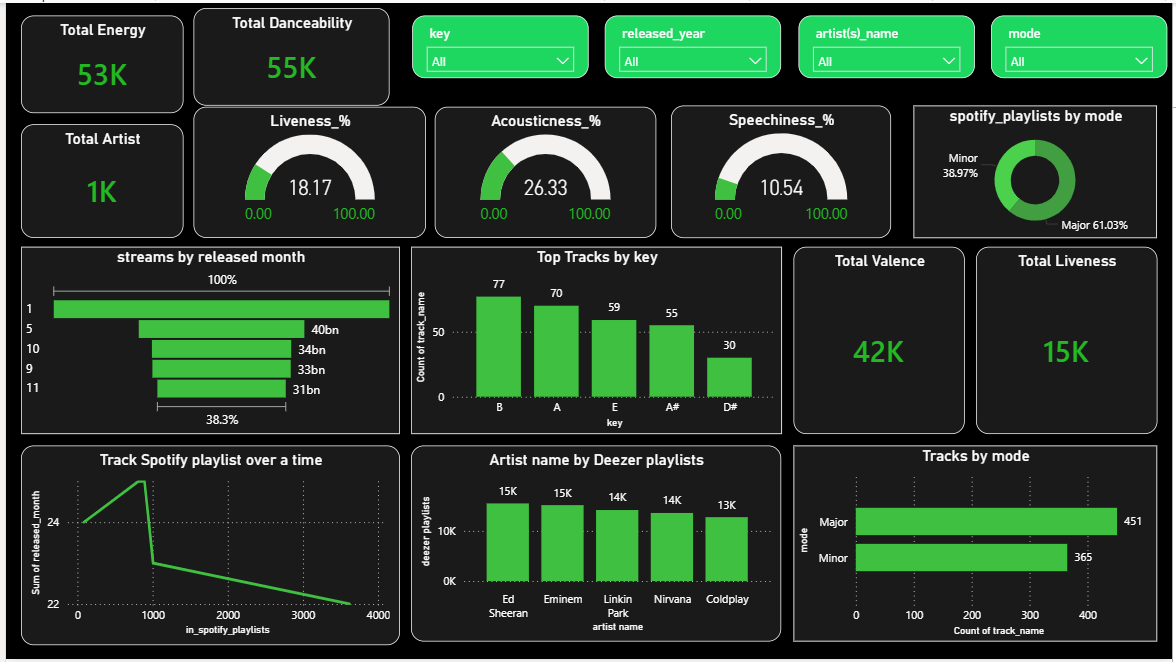

The dashboard page shown, as its layout file describes it:
{"tool":"powerbi","page":{"name":"Spotify Track","canvas":[1280,720],"ordinal":1},"visuals":[{"type":"slicer","fields":{"Values":["spotifyclean.key"]},"box":[446,13.7,193.5,68.6],"z":0},{"type":"slicer","fields":{"Values":["spotifyclean.released_year"]},"box":[657.7,13.7,193.5,68.6],"z":1000},{"type":"slicer","fields":{"Values":["spotifyclean.artist(s)_name"]},"box":[869.5,13.7,193.5,68.6],"z":2000},{"type":"slicer","fields":{"Values":["spotifyclean.mode"]},"box":[1081.3,13.7,193.5,68.6],"z":3000},{"type":"cardVisual","title":"Total Artist","fields":{"Data":["Sum(spotifyclean.artist_count)"]},"box":[16.5,133.1,178.4,124.9],"z":4000},{"type":"gauge","title":"Liveness_%","fields":{"Y":["Avg(spotifyclean.liveness_%)"]},"box":[205.8,113.9,255.2,144.1],"z":5000},{"type":"gauge","title":"Acousticness_%","fields":{"Y":["Avg(spotifyclean.acousticness_%)"]},"box":[470.7,113.9,242.9,144.1],"z":6000},{"type":"gauge","title":"Speechiness_%","fields":{"Y":["Avg(spotifyclean.speechiness_%)"]},"box":[730,112.5,241.5,145.5],"z":7000},{"type":"columnChart","title":"Top Tracks by key","fields":{"Y":["CountNonNull(spotifyclean.track_name)"],"Category":["spotifyclean.key"]},"box":[444.6,267.6,407.5,205.8],"z":9000},{"type":"lineChart","title":"Track Spotify playlist over a time","fields":{"Category":["spotifyclean.in_spotify_playlists"],"Y":["Sum(spotifyclean.released_month)"]},"box":[16.5,485.8,415.8,219.6],"z":11000},{"type":"columnChart","title":"Artist name by Deezer playlists","fields":{"Y":["Sum(spotifyclean.in_deezer_playlists)"],"Category":["spotifyclean.artist(s)_name"]},"box":[445.3,485.8,406.2,215.4],"z":12000},{"type":"clusteredBarChart","title":"Tracks by mode","fields":{"Y":["CountNonNull(spotifyclean.track_name)"],"Category":["spotifyclean.mode"]},"box":[864.5,485.8,399.3,215.4],"z":13000},{"type":"funnel","title":" streams by released month","fields":{"Y":["Sum(spotifyclean.streams)"],"Category":["spotifyclean.released_month"]},"box":[16.5,267.6,415.8,205.8],"z":16000},{"type":"donutChart","title":"spotify_playlists by mode","fields":{"Y":["Sum(spotifyclean.in_spotify_playlists)"],"Category":["spotifyclean.mode"]},"box":[996.2,112.5,267.6,145.5],"z":16001},{"type":"cardVisual","title":"Total Valence","fields":{"Data":["Sum(spotifyclean.valence_%)"]},"box":[864.5,267.6,188,205.8],"z":16002},{"type":"cardVisual","title":"Total Liveness","fields":{"Data":["Sum(spotifyclean.liveness_%)"]},"box":[1064.8,267.6,199,205.8],"z":16003},{"type":"cardVisual","title":"Total Energy","fields":{"Data":["Sum(spotifyclean.energy_%)"]},"box":[16.5,13.7,178.4,107],"z":16004},{"type":"cardVisual","title":"Total Danceability","fields":{"Data":["Sum(spotifyclean.danceability_%)"]},"box":[205.8,5.5,215.4,107],"z":16005}]}

Visuals, with their boxes in screenshot pixels (x1, y1, x2, y2), scaled from the page's 1280x720 canvas onto the 1176x662 screenshot:
slicer - spotifyclean.key: {"left": 410, "top": 13, "right": 588, "bottom": 76}
slicer - spotifyclean.released_year: {"left": 604, "top": 13, "right": 782, "bottom": 76}
slicer - spotifyclean.artist(s)_name: {"left": 799, "top": 13, "right": 977, "bottom": 76}
slicer - spotifyclean.mode: {"left": 993, "top": 13, "right": 1171, "bottom": 76}
"Total Artist" cardVisual: {"left": 15, "top": 122, "right": 179, "bottom": 237}
"Liveness_%" gauge: {"left": 189, "top": 105, "right": 424, "bottom": 237}
"Acousticness_%" gauge: {"left": 432, "top": 105, "right": 656, "bottom": 237}
"Speechiness_%" gauge: {"left": 671, "top": 103, "right": 893, "bottom": 237}
"Top Tracks by key" columnChart: {"left": 408, "top": 246, "right": 783, "bottom": 435}
"Track Spotify playlist over a time" lineChart: {"left": 15, "top": 447, "right": 397, "bottom": 649}
"Artist name by Deezer playlists" columnChart: {"left": 409, "top": 447, "right": 782, "bottom": 645}
"Tracks by mode" clusteredBarChart: {"left": 794, "top": 447, "right": 1161, "bottom": 645}
" streams by released month" funnel: {"left": 15, "top": 246, "right": 397, "bottom": 435}
"spotify_playlists by mode" donutChart: {"left": 915, "top": 103, "right": 1161, "bottom": 237}
"Total Valence" cardVisual: {"left": 794, "top": 246, "right": 967, "bottom": 435}
"Total Liveness" cardVisual: {"left": 978, "top": 246, "right": 1161, "bottom": 435}
"Total Energy" cardVisual: {"left": 15, "top": 13, "right": 179, "bottom": 111}
"Total Danceability" cardVisual: {"left": 189, "top": 5, "right": 387, "bottom": 103}
